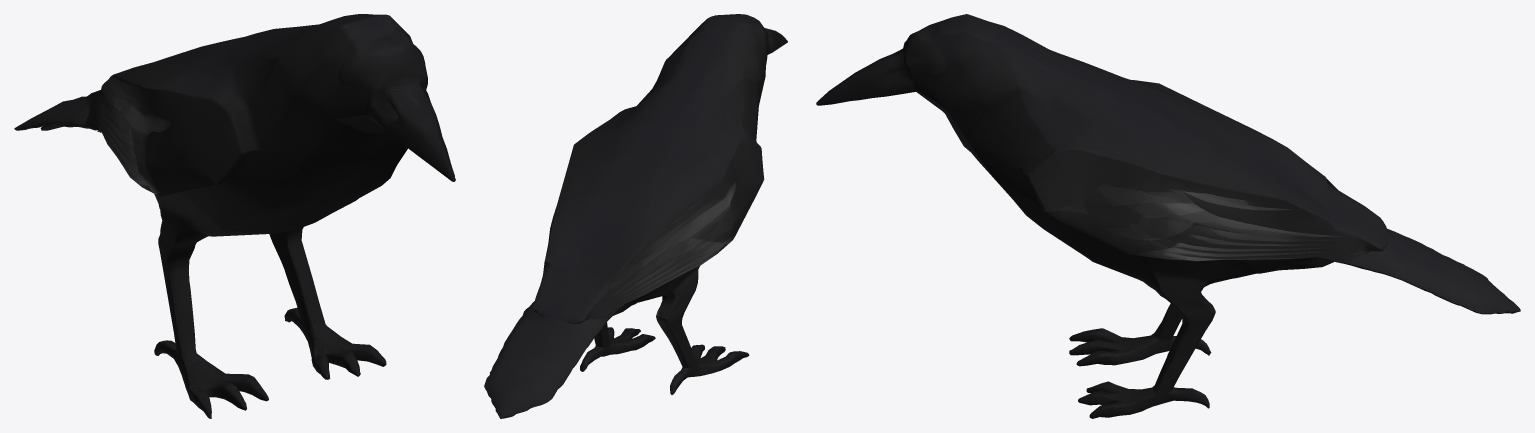
Rendered from npc_crow_perched.glb.
3 renders of one model, left to right at view 1: azimuth 30°, elevation 25°; view 2: azimuth 150°, elevation 25°; view 3: azimuth 270°, elevation 25°, orthographic. The views are drawn at different scales.
Bounding box in the file's own units: 0.6067 × 1.08 × 1.91.
Materials: 1 (1 with a texture image).
